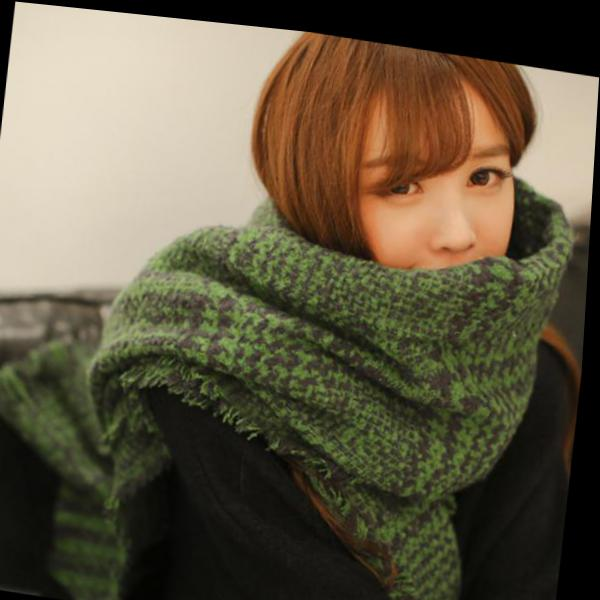WRONG: (318, 93, 534, 329)
